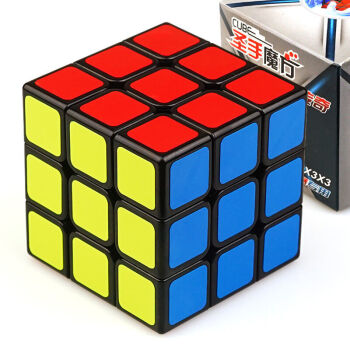cube: (22, 21, 310, 335)
